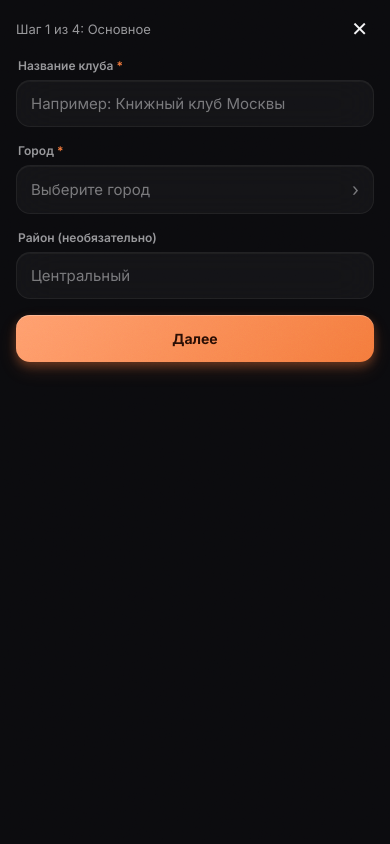
CreateClubModal › shows the application question on the access-type step only for a closed club
The width and height of the screenshot is (390, 844).
Type "Закрытый клуб" into the field labelled "Название клуба *".
click(195, 104); type("Закрытый клуб")  # box [16,80,374,127]
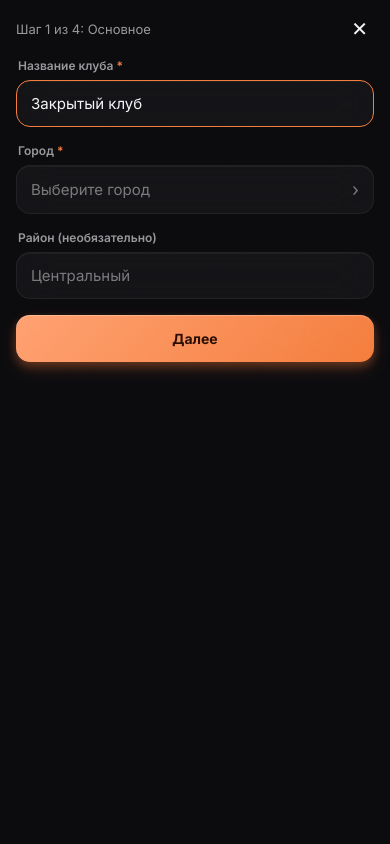
Click the button "Выберите город ›".
click(90, 190)  # box [16,165,374,214]
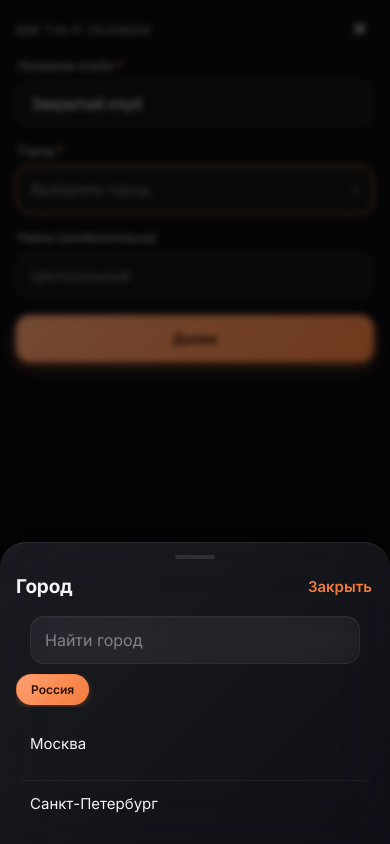
Click the button "Москва".
click(58, 744)  # box [16,721,374,766]
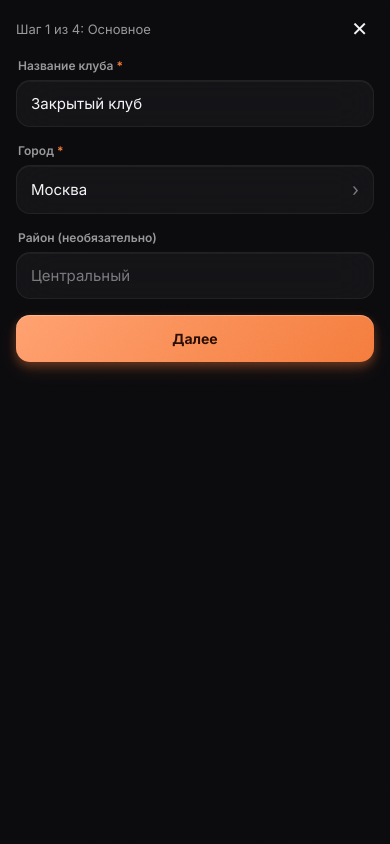
Click the button "Далее".
click(195, 338)  # box [16,315,374,362]
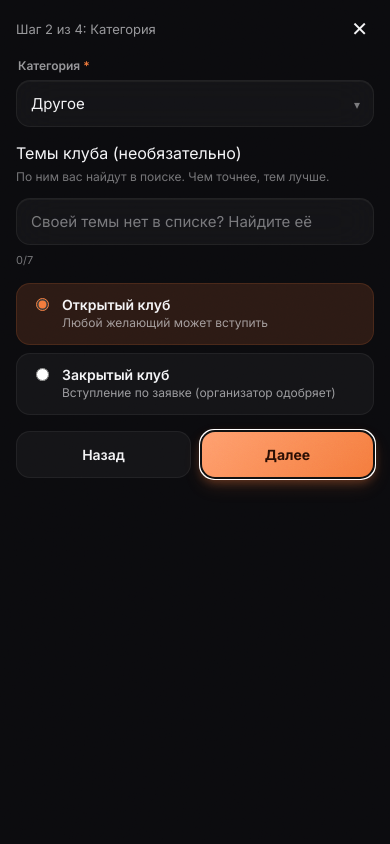
Check: the field labelled "вопрос для вступления" is not shown
Click the radio button labelled "Закрытый клуб Вступление по заявке (организатор одобряет)".
click(42, 374)  # box [36,368,49,381]
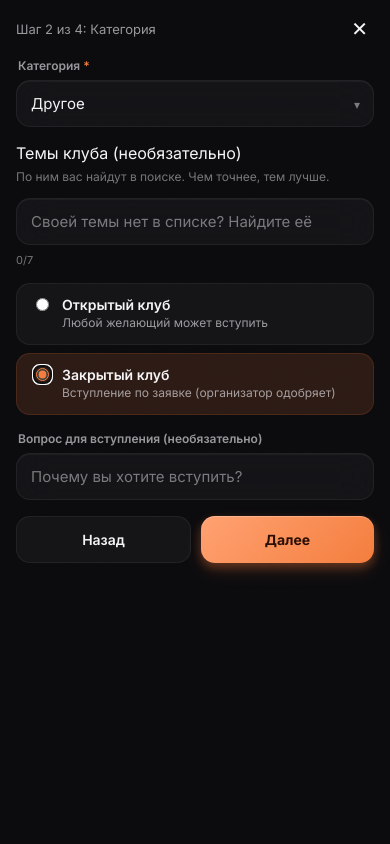
Check: the field labelled "Вопрос для вступления (необязательно)" is shown, box [16,453,374,500]
Click the radio button labelled "Открытый клуб Любой желающий может вступить".
click(42, 304)  # box [36,298,49,311]
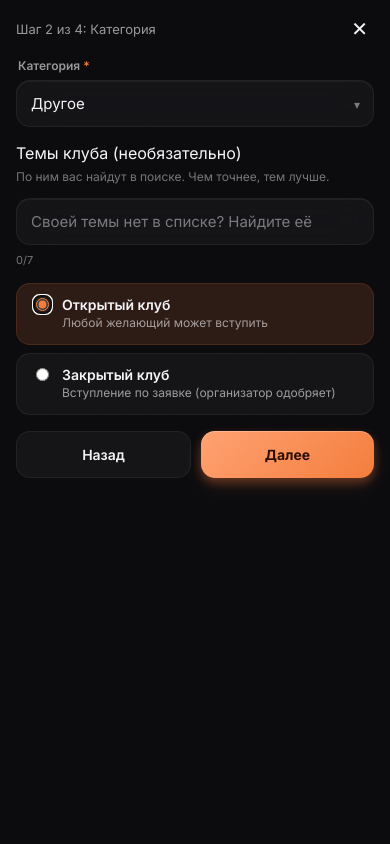
Check: the text labelled "Вопрос для вступления" is gone
